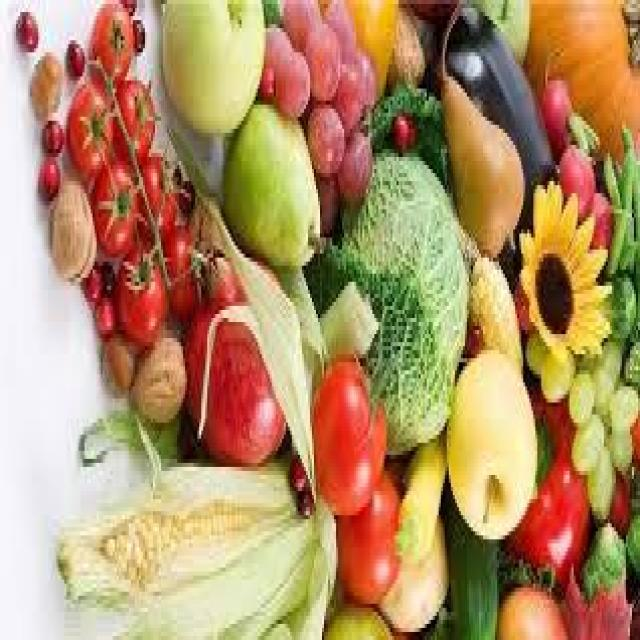organic waste: (167, 121, 318, 483), (54, 455, 338, 636), (306, 141, 465, 455), (420, 0, 558, 274), (181, 217, 290, 459), (439, 0, 521, 254), (515, 169, 612, 366), (523, 0, 638, 157), (443, 334, 531, 539), (505, 378, 590, 588), (219, 100, 326, 262), (157, 0, 266, 133), (308, 354, 386, 515), (376, 495, 445, 636), (332, 467, 399, 600), (312, 0, 394, 97), (79, 406, 181, 471), (366, 81, 443, 165), (396, 434, 443, 564), (445, 523, 495, 636), (467, 250, 519, 358), (561, 559, 630, 636), (127, 330, 185, 419), (64, 73, 113, 177), (115, 234, 165, 334), (90, 153, 139, 254), (48, 177, 95, 282), (111, 68, 159, 157), (165, 209, 205, 314), (491, 580, 564, 636), (135, 153, 183, 233), (88, 0, 135, 81), (614, 120, 638, 274), (386, 0, 424, 85), (580, 515, 624, 588), (304, 97, 342, 173), (558, 137, 594, 213), (336, 121, 370, 201), (540, 56, 570, 145), (306, 20, 340, 97), (614, 286, 638, 386), (272, 48, 306, 117), (324, 600, 386, 636), (618, 153, 636, 274), (28, 48, 61, 113), (258, 20, 288, 89), (538, 346, 574, 403), (277, 0, 318, 48), (100, 330, 132, 391), (568, 406, 598, 471), (332, 56, 358, 129), (582, 177, 608, 242), (598, 471, 628, 527), (592, 342, 614, 415), (324, 0, 354, 52), (350, 44, 374, 105), (606, 378, 638, 423), (314, 169, 338, 229), (588, 443, 610, 507), (566, 105, 592, 157), (522, 330, 550, 378), (610, 201, 628, 270), (622, 503, 638, 576), (600, 141, 618, 201), (606, 419, 630, 463), (38, 149, 58, 201), (570, 370, 592, 415), (92, 294, 112, 338), (14, 4, 36, 44), (390, 113, 414, 149), (40, 113, 64, 149), (288, 443, 306, 487), (66, 36, 84, 72), (294, 479, 314, 511), (127, 16, 143, 56), (179, 422, 201, 450), (179, 173, 195, 209), (169, 145, 181, 185), (82, 266, 99, 294), (100, 258, 114, 290), (119, 0, 137, 8)
